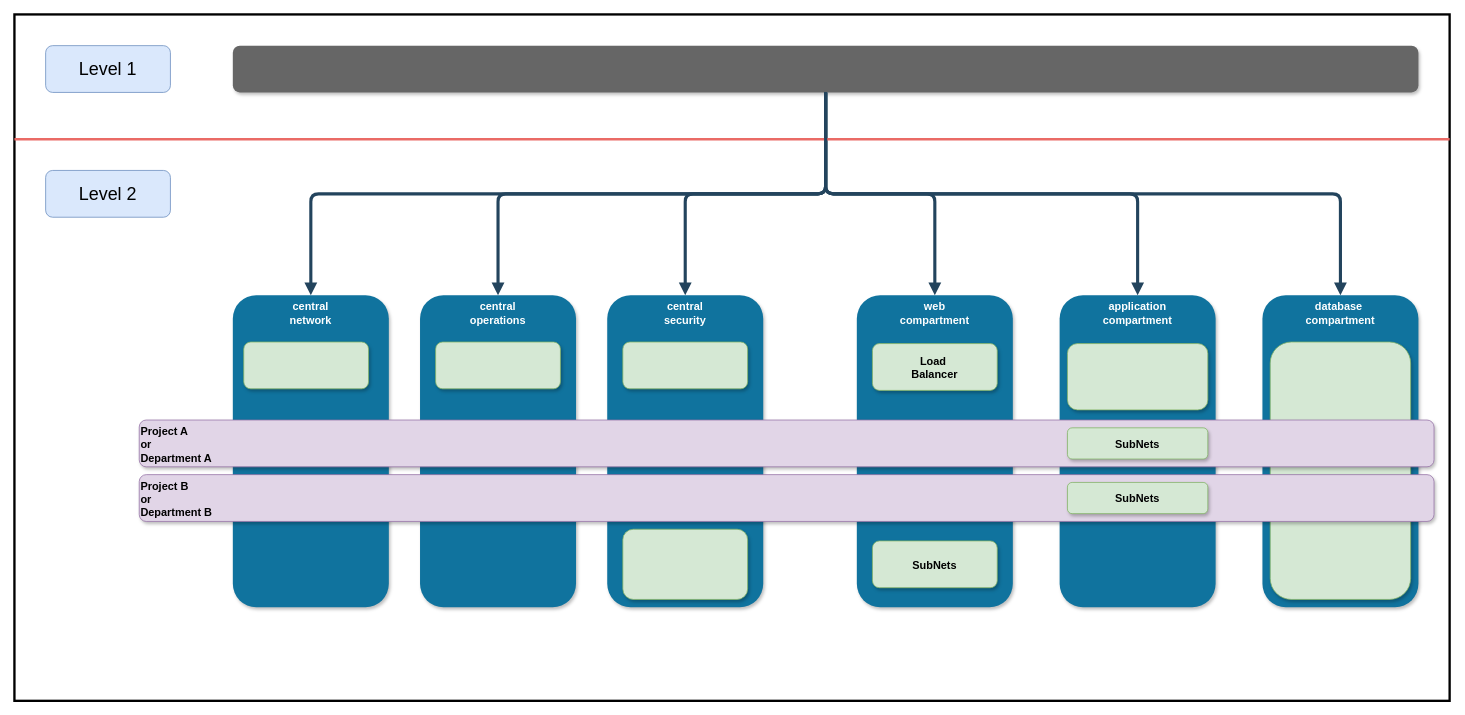
The diagram is 1465 pixels wide and 715 high, and some of its shapes have lost their labels. The shapes that lost their labels are listed below. From the top down, each one's centre as x and y in pixels, then its label:
At pixel 826 70: "root".
At pixel 306 366: "VCNs".
At pixel 498 366: "Operator Hosts".
At pixel 685 366: "Web Application Firewall".
At pixel 1138 377: "BareMetal & VirtualMachines".
At pixel 1340 471: "DBCS".
At pixel 685 565: "Groups & Policies".
